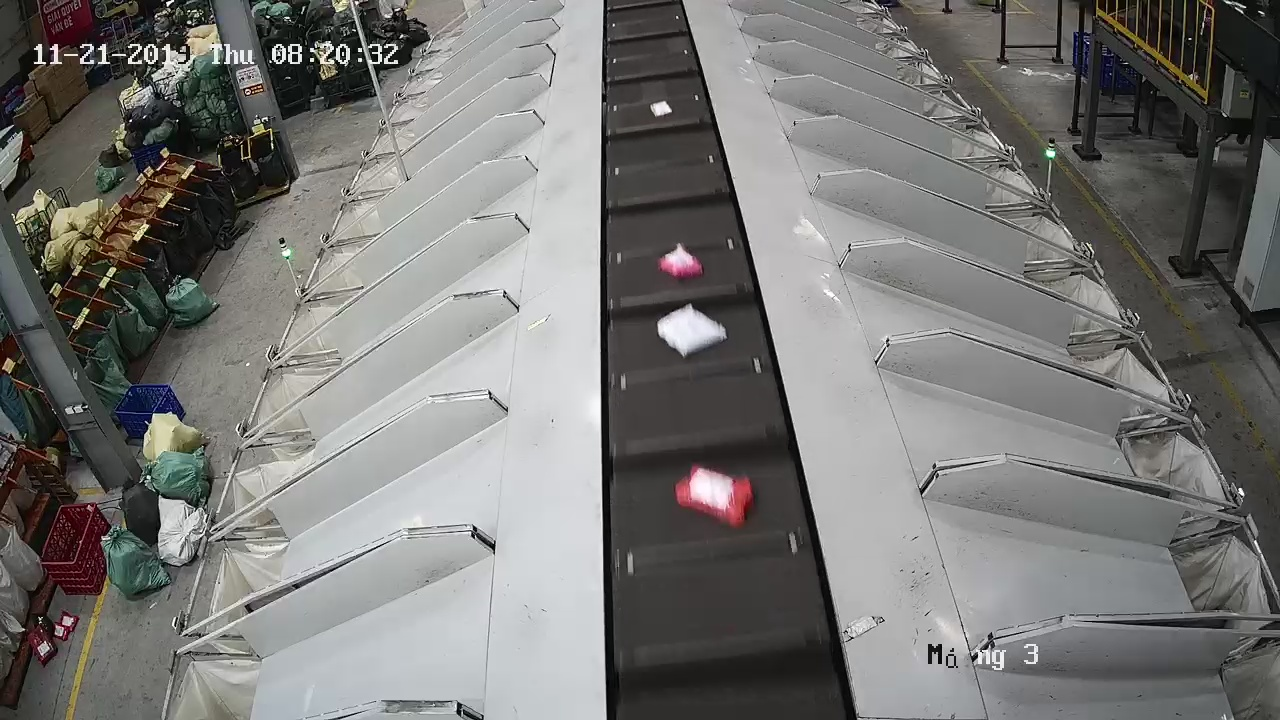parcel: (673, 462, 757, 530)
